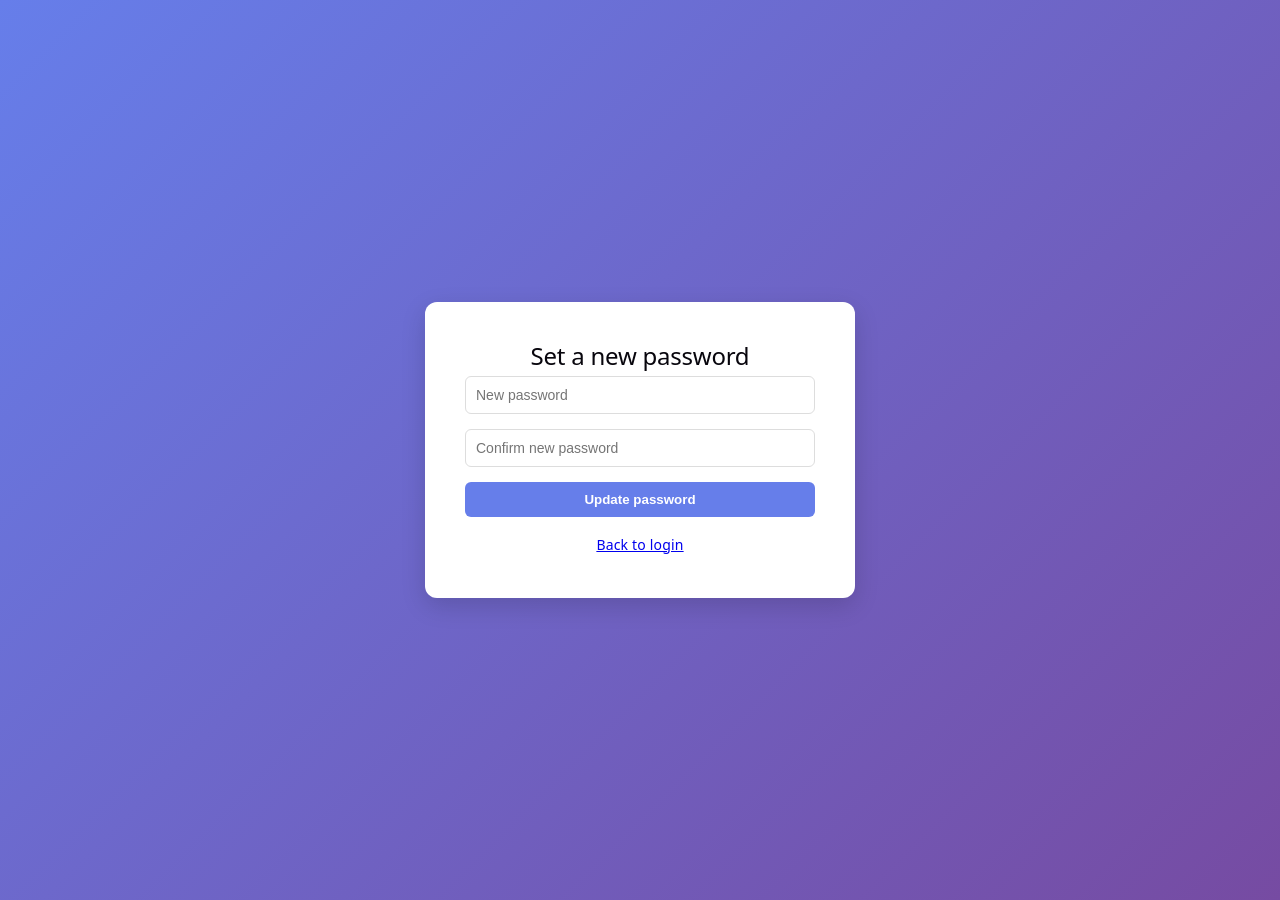
it: ResetPassword page › shows missing-token error if URL has no token
This screenshot has width=1280, height=900.
Type "fresh-pw" into the password field with placeholder "New password".
click(640, 395); type("fresh-pw")  # box [465,376,815,414]
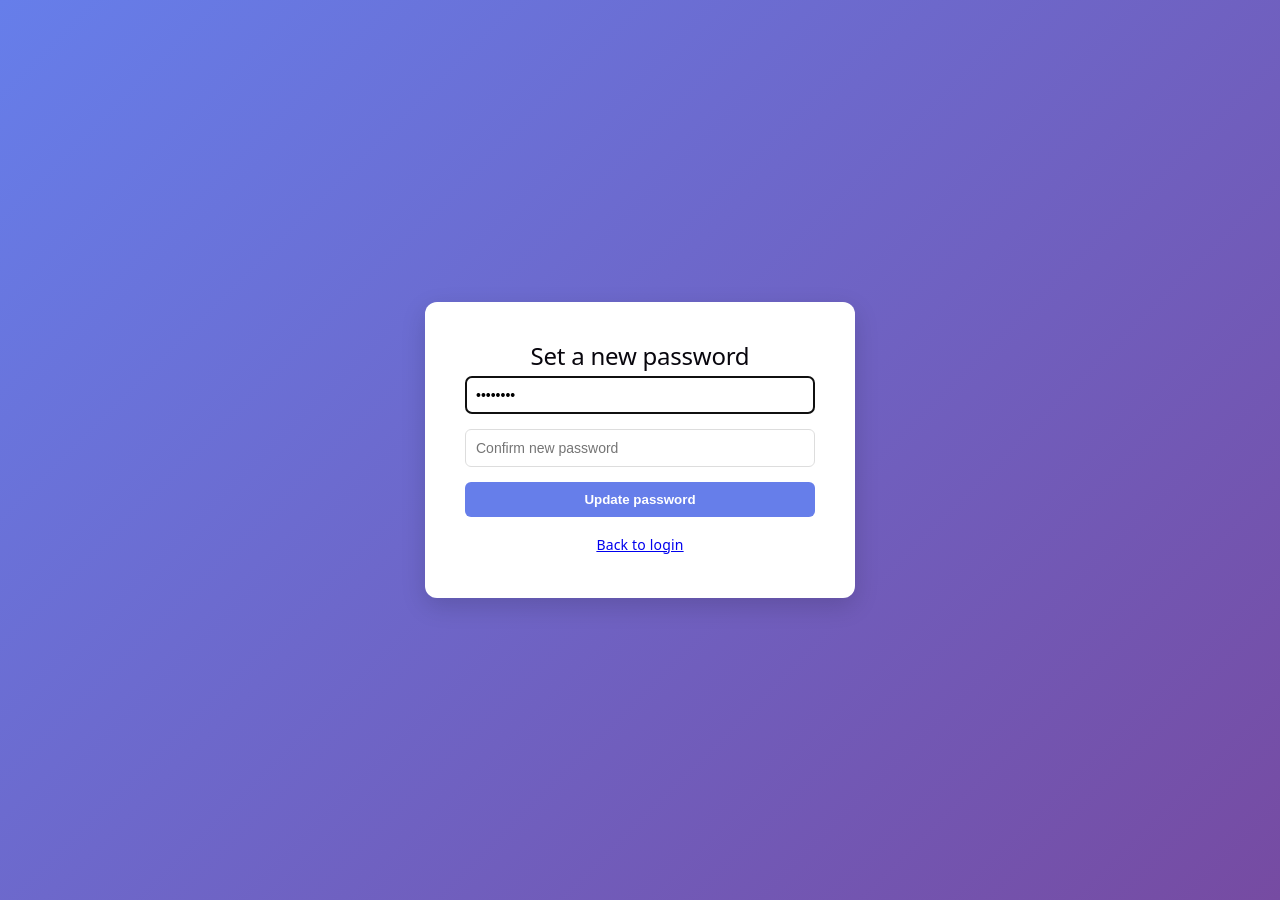
Type "fresh-pw" into the password field with placeholder "Confirm new password".
click(640, 448); type("fresh-pw")  # box [465,429,815,467]
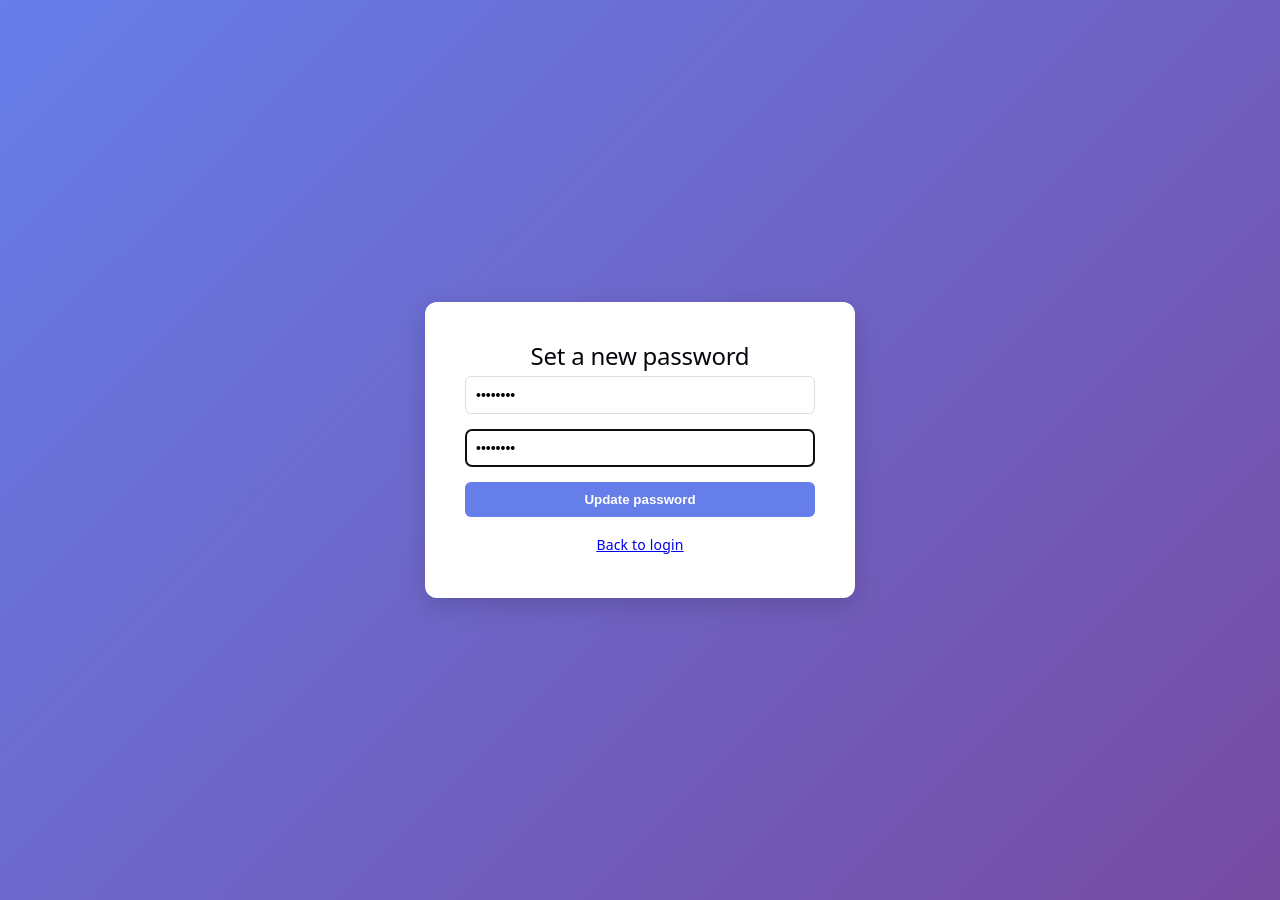
Click the button "Update password".
click(640, 499)  # box [465,482,815,517]
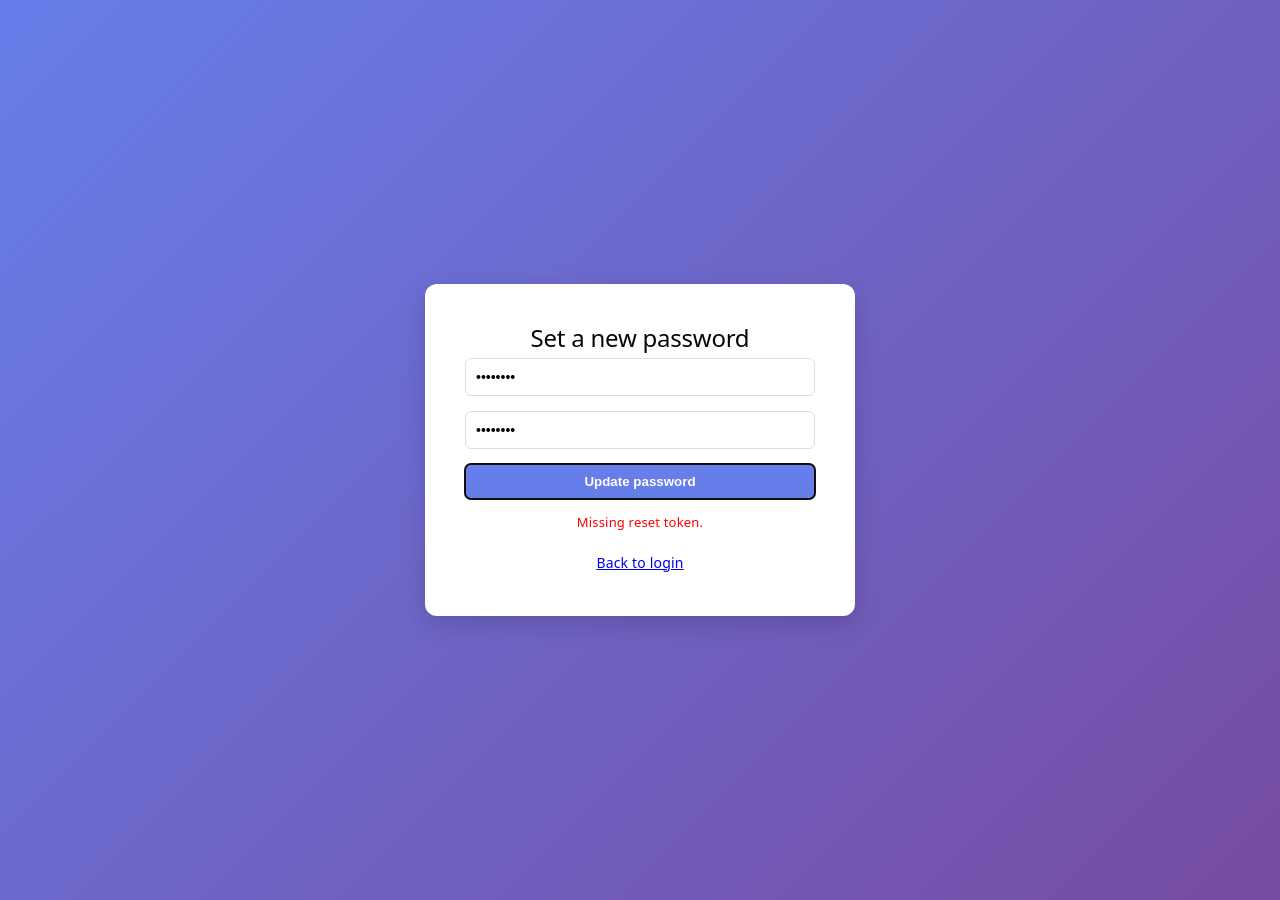
Result: the text "Missing reset token." is shown at [577,513,703,531]
